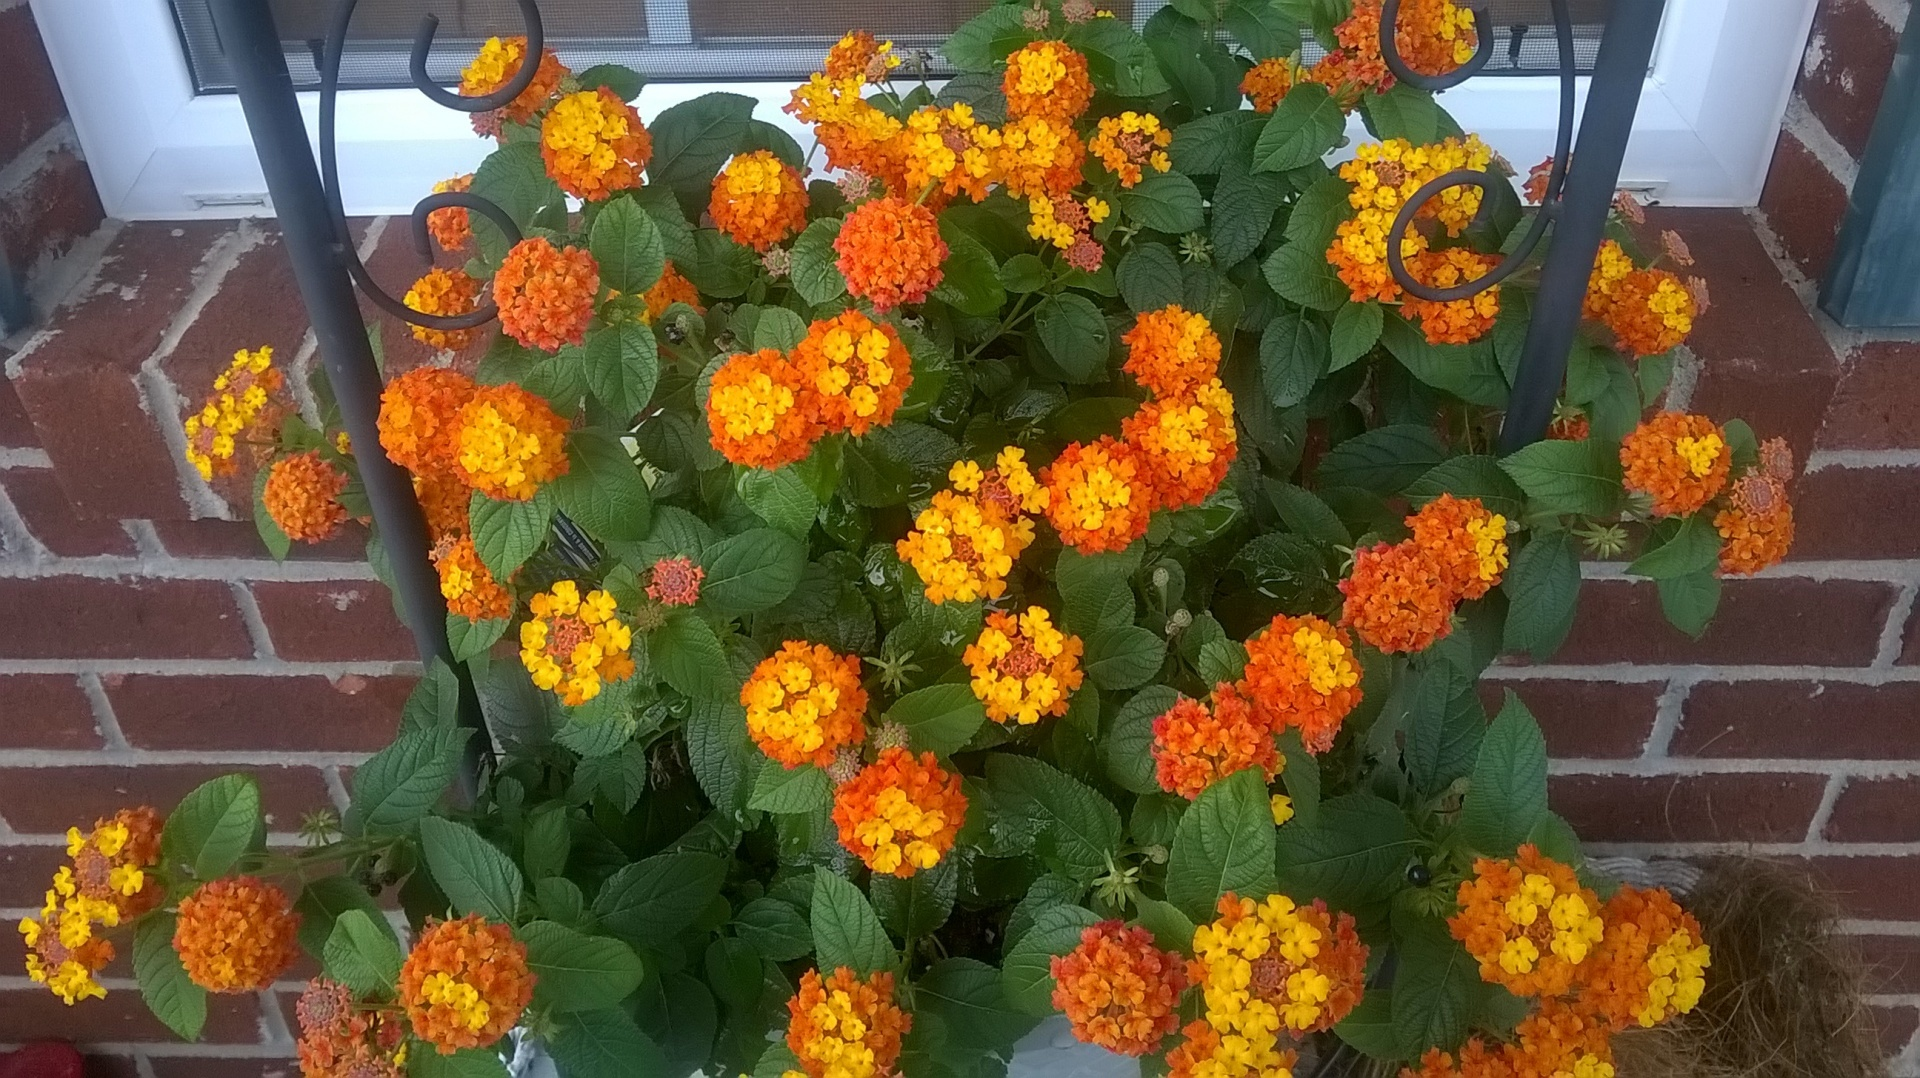lantana: (1232, 917, 1267, 961), (1516, 1016, 1557, 1052), (1153, 749, 1187, 790), (1283, 924, 1319, 962), (1606, 925, 1646, 959), (1216, 1034, 1251, 1071), (1244, 1036, 1280, 1071), (1212, 683, 1247, 720), (1211, 957, 1249, 991), (1284, 971, 1327, 1001), (458, 930, 495, 965), (895, 752, 924, 796), (593, 621, 632, 654), (1193, 924, 1230, 957), (1536, 958, 1568, 996), (596, 650, 636, 681), (1549, 896, 1589, 926), (1472, 928, 1510, 958), (1242, 1001, 1276, 1034), (1259, 895, 1294, 928), (1551, 1015, 1585, 1048), (1052, 658, 1084, 693), (1224, 724, 1259, 755), (488, 972, 520, 1005), (1097, 939, 1129, 972), (1026, 673, 1059, 705), (1501, 937, 1534, 968), (1520, 873, 1553, 905), (1640, 435, 1673, 467), (225, 938, 260, 968), (1138, 982, 1168, 1016), (1280, 1000, 1317, 1028), (1006, 697, 1043, 724), (1716, 508, 1747, 540), (818, 363, 849, 395), (582, 588, 615, 619), (433, 943, 463, 976), (949, 459, 982, 490), (542, 305, 574, 335), (1079, 975, 1109, 1007), (972, 526, 1004, 557), (429, 1001, 458, 1034), (1021, 607, 1054, 636), (949, 505, 982, 534), (884, 804, 919, 830), (109, 868, 145, 895), (571, 668, 601, 698), (1168, 720, 1199, 751), (858, 330, 889, 360), (549, 581, 580, 610), (55, 917, 88, 945), (843, 1046, 876, 1074), (1647, 470, 1680, 497), (870, 1005, 901, 1034), (1196, 724, 1226, 753), (574, 160, 605, 187), (495, 259, 526, 286), (905, 844, 942, 868), (1112, 974, 1143, 1001), (819, 714, 852, 740), (95, 826, 128, 852), (1179, 757, 1212, 784), (975, 666, 1000, 701), (531, 658, 560, 687), (423, 972, 452, 1001), (1553, 932, 1582, 961), (1420, 1048, 1451, 1075), (1506, 896, 1536, 924), (1387, 611, 1418, 639), (1671, 482, 1702, 508), (454, 1005, 491, 1028), (508, 433, 541, 458), (442, 986, 476, 1009), (556, 245, 585, 273), (781, 662, 810, 690), (810, 683, 837, 713), (1089, 1017, 1117, 1046), (852, 388, 880, 417), (526, 277, 556, 303), (410, 409, 440, 435), (793, 724, 823, 751), (1444, 300, 1474, 326), (1629, 463, 1660, 488), (1118, 1013, 1153, 1036), (516, 297, 542, 326), (495, 460, 524, 487), (479, 431, 508, 458), (757, 680, 783, 709), (1296, 628, 1323, 657), (963, 150, 992, 177), (572, 643, 603, 668), (1329, 990, 1354, 1020), (1648, 945, 1673, 975), (527, 325, 559, 348), (852, 984, 876, 1016), (858, 819, 891, 842), (765, 711, 793, 738), (963, 644, 989, 672), (1367, 595, 1395, 621), (804, 645, 829, 674), (874, 844, 899, 873), (1280, 657, 1309, 682), (1383, 577, 1408, 606), (928, 149, 957, 174), (1415, 583, 1439, 614), (210, 954, 232, 986), (1448, 530, 1474, 557), (392, 428, 419, 453), (996, 676, 1021, 703), (1648, 975, 1673, 1003), (866, 362, 894, 387), (58, 961, 87, 984), (1360, 261, 1389, 285), (876, 263, 905, 286), (827, 333, 851, 362), (765, 388, 794, 412), (1734, 534, 1764, 557), (909, 111, 940, 132), (591, 143, 616, 169), (877, 789, 902, 815), (219, 912, 244, 938), (1035, 632, 1062, 657), (873, 214, 901, 238), (980, 557, 1013, 577), (972, 127, 1002, 148), (520, 621, 545, 647), (727, 416, 752, 441), (894, 240, 920, 264), (493, 280, 516, 307), (1329, 662, 1357, 685), (1027, 216, 1056, 238), (793, 699, 816, 724), (982, 632, 1007, 656), (949, 103, 975, 127), (916, 133, 942, 157), (1189, 439, 1215, 463), (465, 963, 492, 986), (1312, 666, 1335, 693), (1182, 408, 1204, 434), (1077, 505, 1105, 526), (1101, 486, 1130, 505), (799, 984, 823, 1008), (1696, 434, 1720, 458), (389, 402, 411, 428), (1402, 149, 1427, 172), (940, 563, 968, 583), (916, 815, 945, 834), (1009, 472, 1033, 495), (603, 117, 628, 139), (473, 578, 498, 599), (841, 1016, 864, 1038), (1091, 136, 1114, 157), (812, 1005, 833, 1028), (820, 1038, 843, 1060), (752, 408, 771, 431), (831, 992, 849, 1017), (212, 435, 233, 457), (220, 414, 243, 434), (574, 132, 593, 154), (1691, 455, 1710, 478), (1480, 558, 1499, 581), (1122, 168, 1145, 187), (1089, 197, 1108, 220), (547, 129, 572, 146), (287, 490, 309, 509), (1677, 437, 1698, 457), (1474, 296, 1495, 315), (1377, 187, 1396, 208), (1139, 115, 1160, 135), (1151, 153, 1171, 174), (1105, 149, 1126, 169), (247, 387, 265, 409), (483, 62, 505, 80), (1356, 143, 1378, 161), (1428, 153, 1451, 172), (1054, 226, 1072, 248), (462, 446, 479, 470), (1168, 431, 1188, 451), (443, 575, 462, 596), (1100, 117, 1121, 136), (1121, 111, 1137, 133), (1356, 245, 1375, 263), (1178, 339, 1195, 359), (203, 405, 218, 428), (1439, 22, 1457, 40), (1456, 9, 1474, 26), (1006, 129, 1025, 146), (1648, 296, 1665, 313), (1358, 172, 1377, 185)
